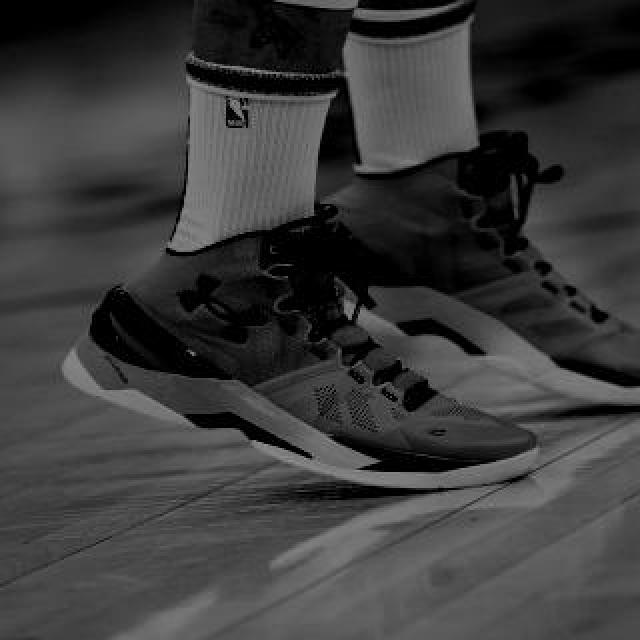shoe: (63, 204, 539, 492), (294, 130, 640, 406)
